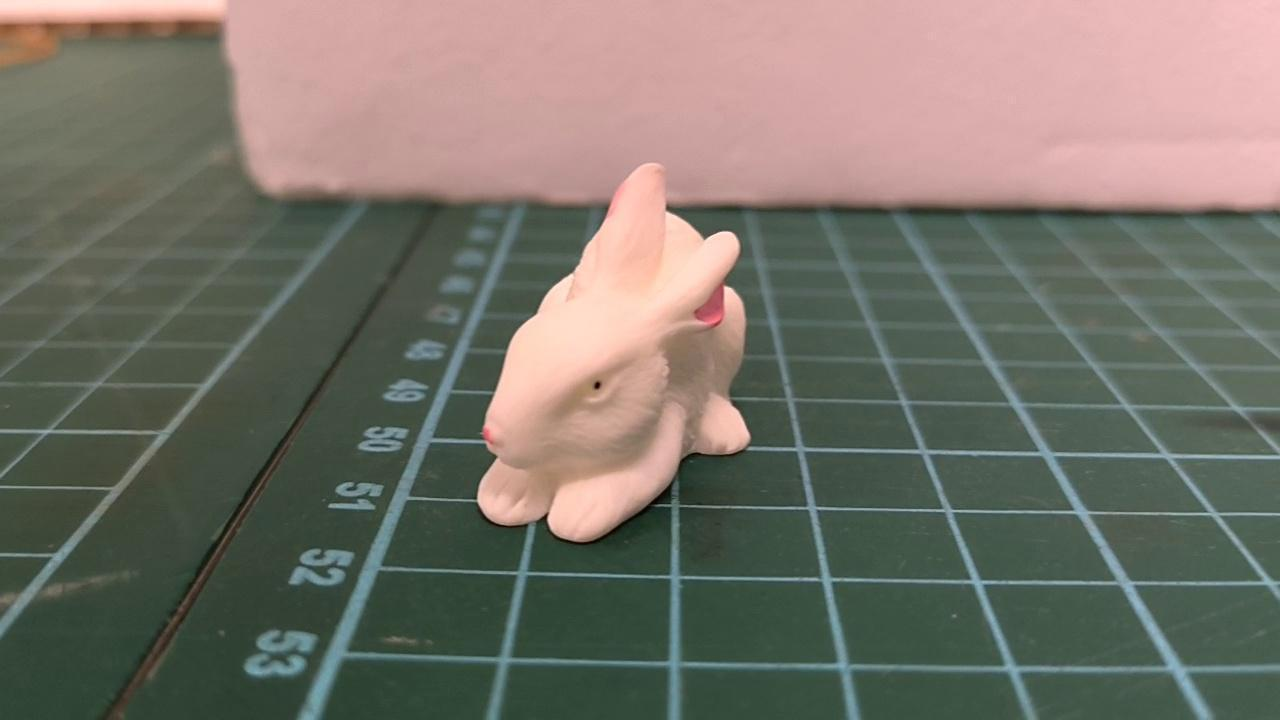pet: (477, 164, 751, 546)
